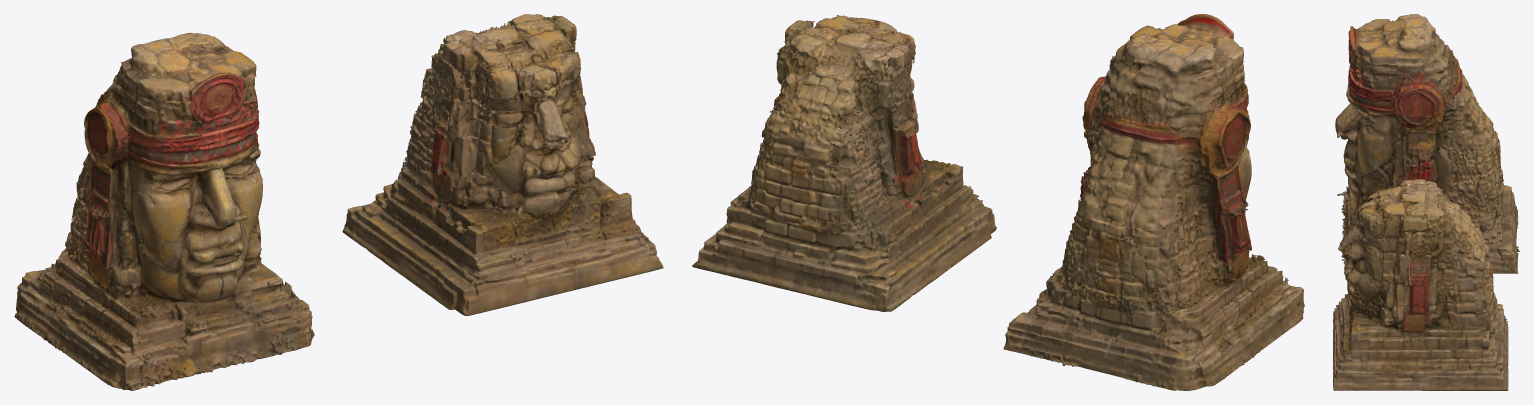
Rendered from jaredite_ruins.glb.
3 renders of one model, left to right at view 1: azimuth 30°, elevation 25°; view 2: azimuth 150°, elevation 25°; view 3: azimuth 270°, elevation 25°, orthographic. The views are drawn at different scales.
Size of the model in its own units: 1.98 by 1.03 by 0.8223.
1 material, 1 textured.
